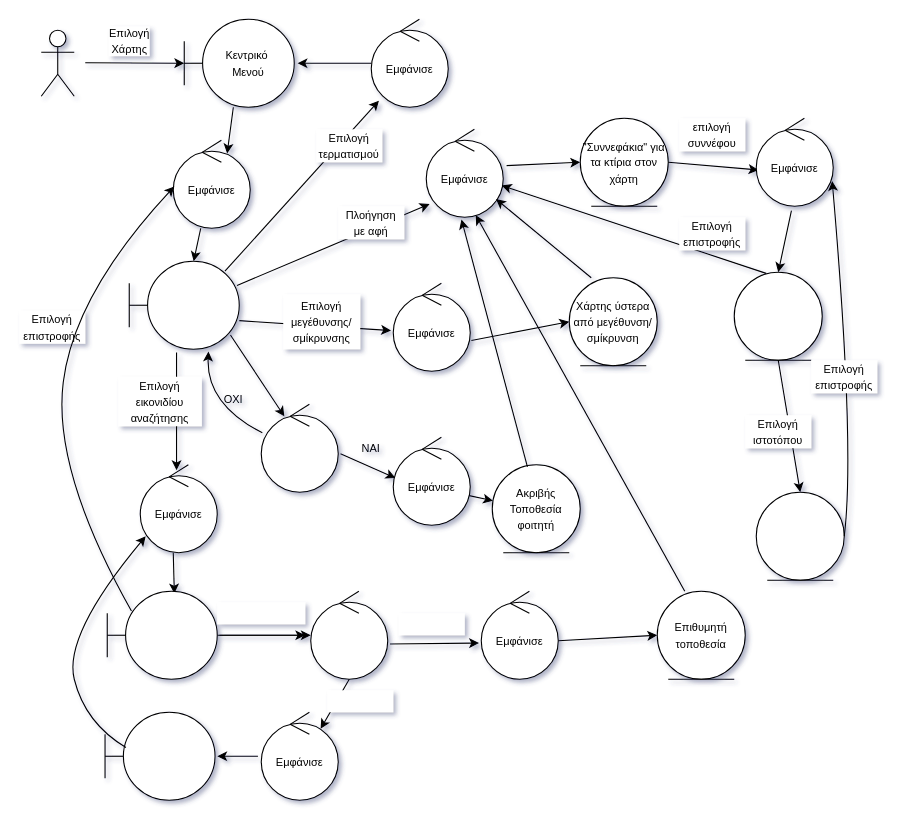
This 902x826 diagram has some shape labels left out. The shapes that lost their labels are listed below. From the top down, each one's centre as x and y in pixels, then its label:
(x=57, y=62): Φοιτητής
(x=183, y=304): Διαδραστικός Χάρτης
(x=777, y=315): Πληροφορίες κτιρίου
(x=299, y=447): Έλεγχος για ενεργοποιημένη τοποθεσία
(x=799, y=535): Ιστότοπος
(x=261, y=613): Πληκτρογράφηση
(x=431, y=624): Επιτυχία
(x=161, y=634): Κενό πεδίο συμμπλήρωσης
(x=349, y=634): Αναζήτηση από σύστημα
(x=360, y=701): Αποτυχία
(x=159, y=755): Μήνυμα αποτυχίας
